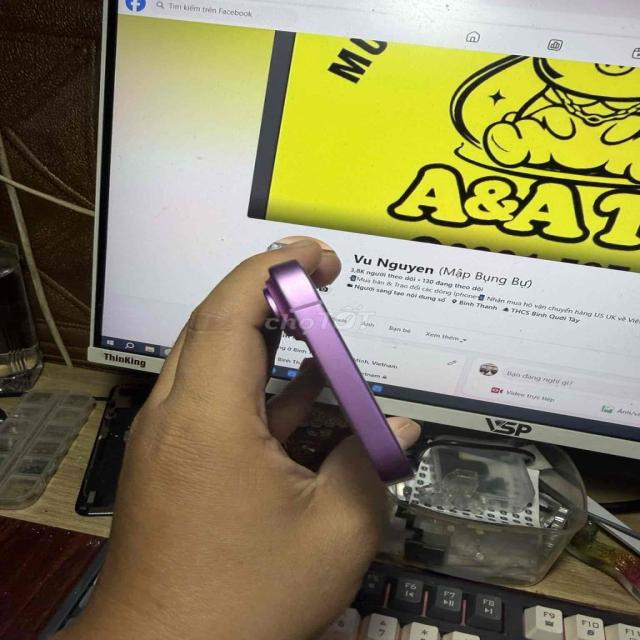gen_16: (258, 247, 444, 497)
